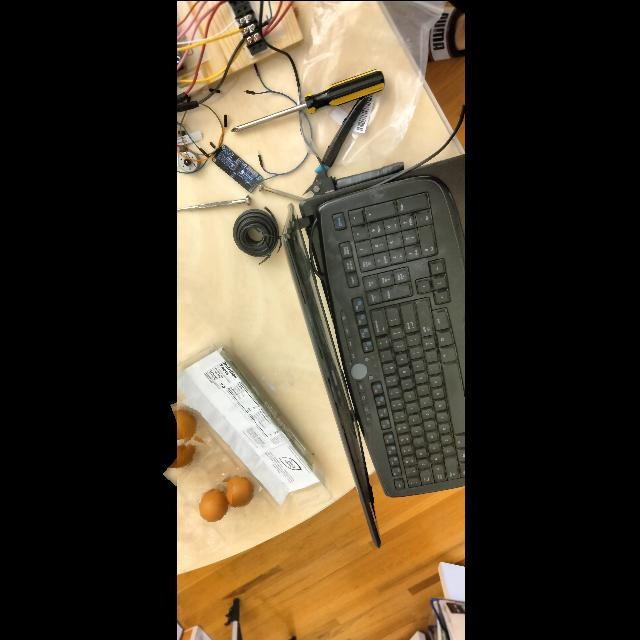Egg: (168, 434, 204, 486), (216, 467, 258, 511), (195, 479, 231, 526), (172, 396, 205, 444)
